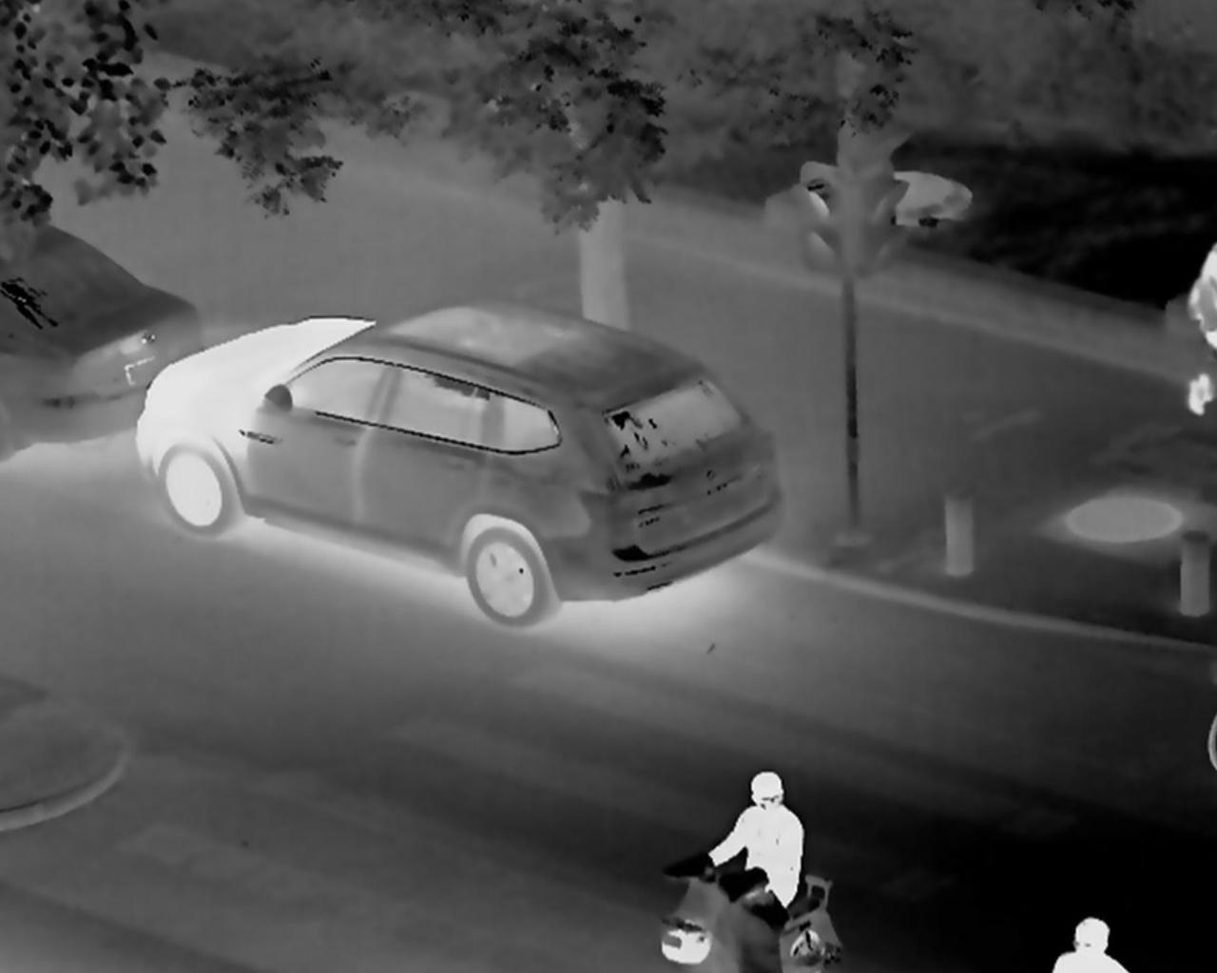person: (709, 756, 850, 913), (1043, 913, 1132, 973)
